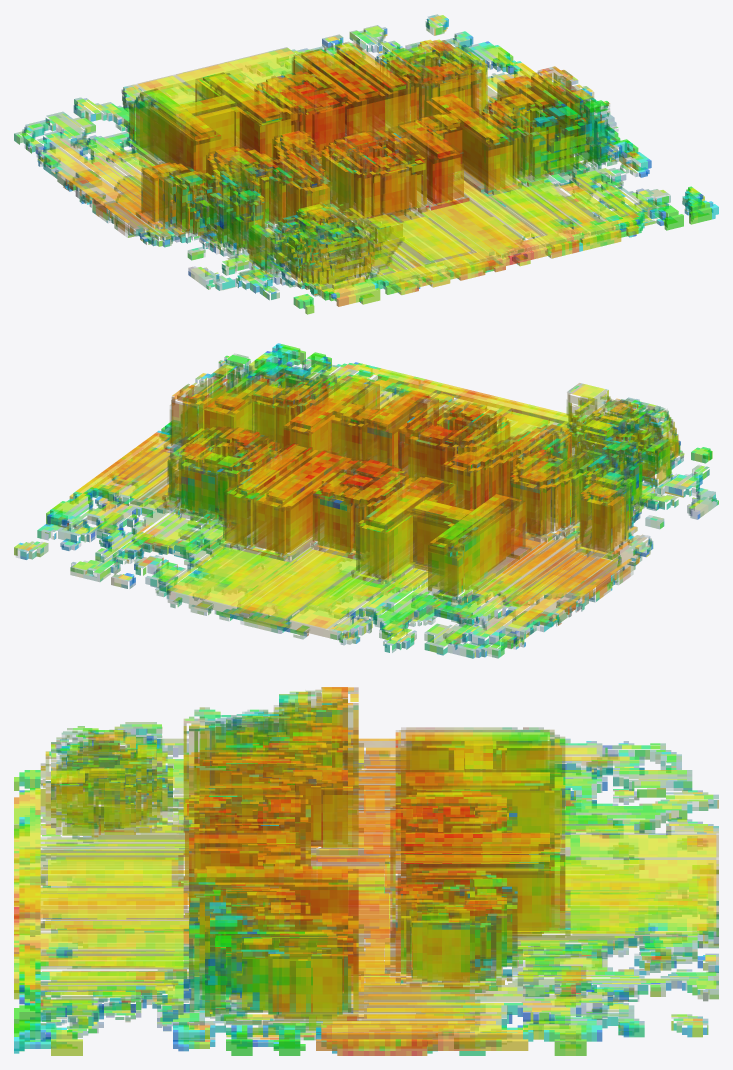
The model's file is hello_world_out.glb.
3 renders of one model, top to bottom at view 1: azimuth 30°, elevation 25°; view 2: azimuth 150°, elevation 25°; view 3: azimuth 270°, elevation 25°, orthographic. The views are drawn at different scales.
Visible parts, largest first — view 1: chunk:0, chunk:1, chunk:2; view 2: chunk:0, chunk:1, chunk:2; view 3: chunk:0, chunk:2, chunk:1, chunk:3.
Boxes of the visible parts, <box> form: chunk:0: <box>14,14,690,299</box>; chunk:1: <box>293,200,701,314</box>; chunk:2: <box>440,15,704,210</box>; chunk:0: <box>16,353,718,658</box>; chunk:1: <box>285,347,712,463</box>; chunk:2: <box>14,350,283,555</box>; chunk:0: <box>40,687,718,1042</box>; chunk:2: <box>40,1025,702,1055</box>; chunk:1: <box>14,770,40,1039</box>; chunk:3: <box>14,1025,40,1053</box>.
Size of the model in its own units: 26.6 by 3.6 by 26.6.
4 materials, 4 textured.
